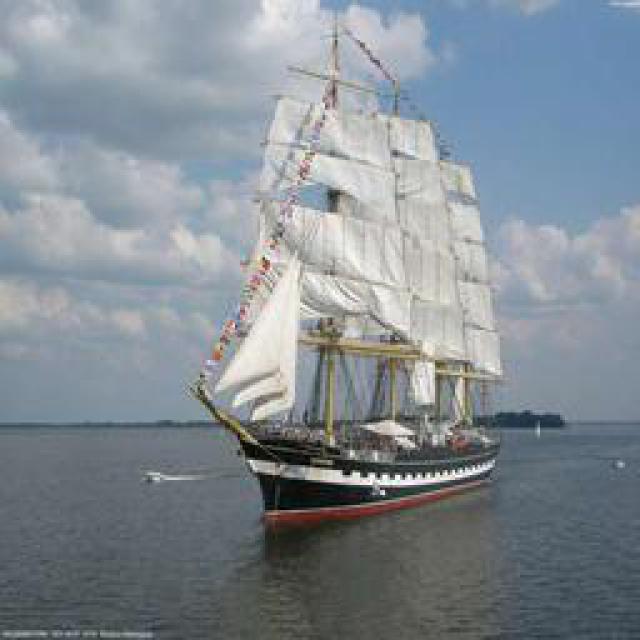Ship: (193, 19, 511, 522)
